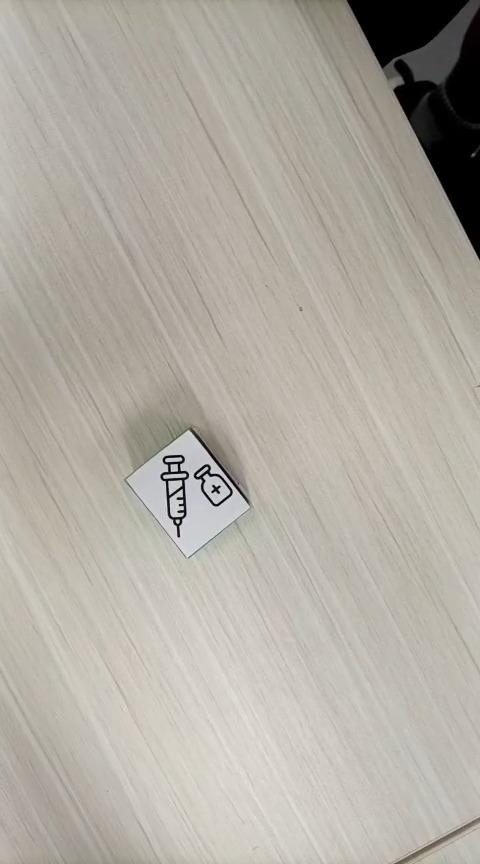antiseptic cream: (126, 429, 258, 557)
